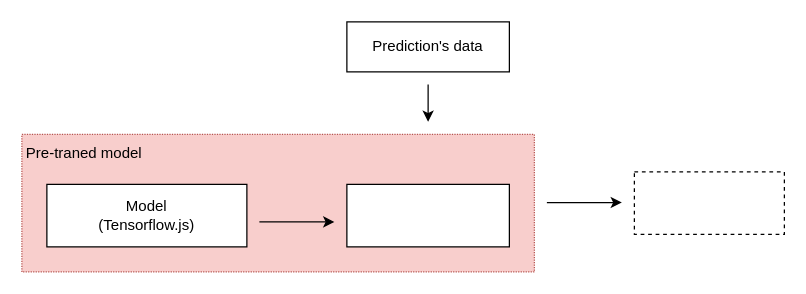
Some shapes in this 806 by 294 pixel diagram are drawn without their labels. The centre of each missing label's shape, as x and y in pixels:
Prediction result: pixel 708 202
Tensorflow.js: pixel 427 215
